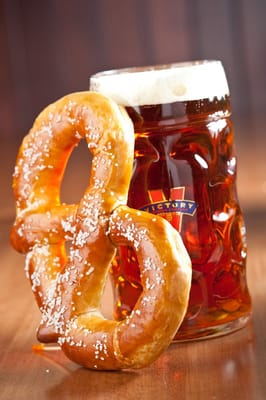salad: (10, 92, 192, 369)
